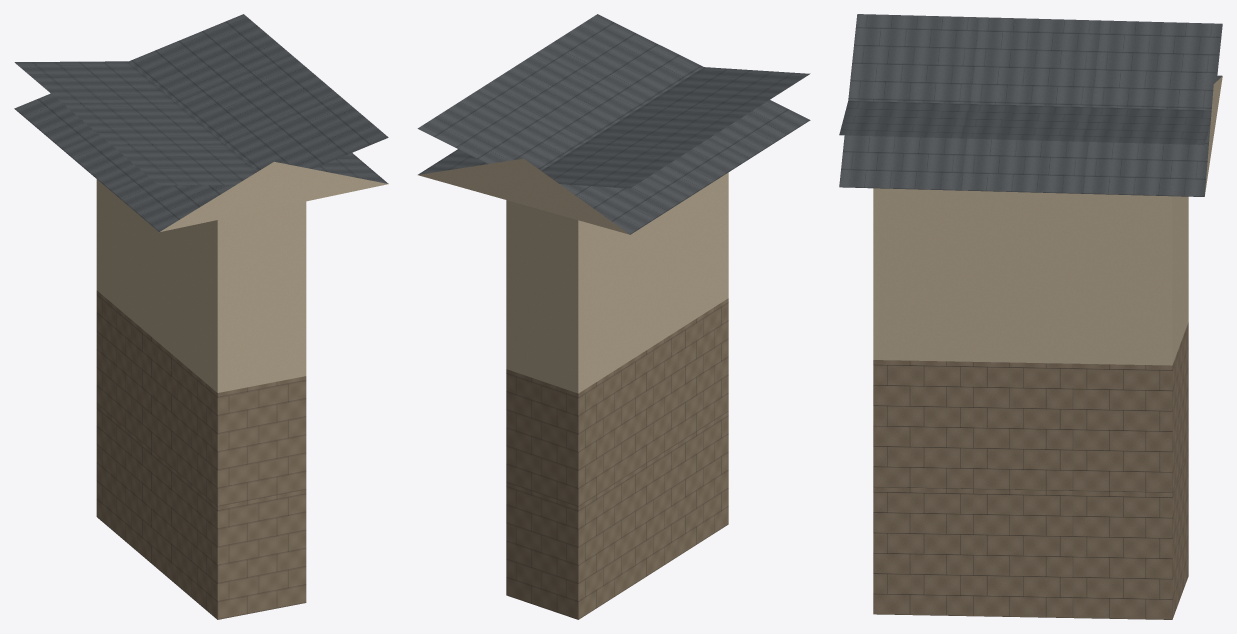
File: bld_c36_-26_446.gltf
3 views of the same model, side by side, from view 1: azimuth 30°, elevation 25°; view 2: azimuth 150°, elevation 25°; view 3: azimuth 270°, elevation 25° (orthographic). The views are drawn at different scales.
Visible parts, largest first — view 1: bld_c36_-26_446; view 2: bld_c36_-26_446; view 3: bld_c36_-26_446.
Boxes of the visible parts, bbox=[...] form: bld_c36_-26_446: bbox=[14, 14, 388, 619]; bld_c36_-26_446: bbox=[417, 14, 810, 619]; bld_c36_-26_446: bbox=[839, 14, 1222, 619].
Bounding box in the file's own units: 5.39 × 9.9 × 6.67.
Materials: 4 (4 with a texture image).
